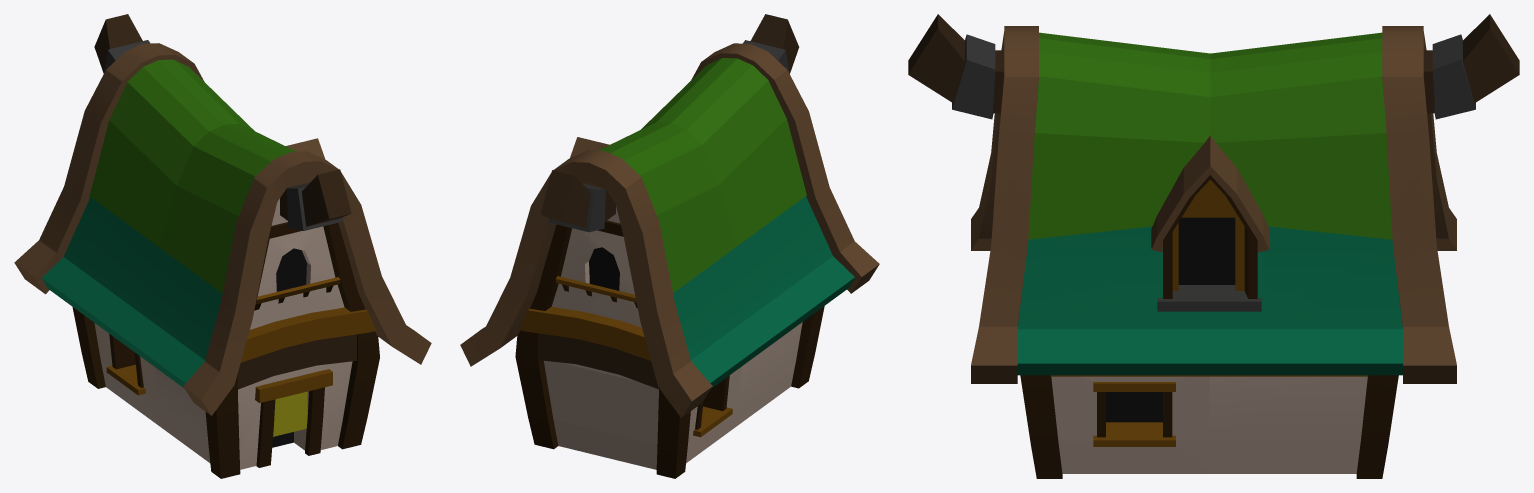
File: House.fbx
3 views of the same model, side by side, from view 1: azimuth 30°, elevation 25°; view 2: azimuth 150°, elevation 25°; view 3: azimuth 270°, elevation 25° (orthographic). The views are drawn at different scales.
Parts seen in each view (by area): view 1: Roof, RoofLeaf, House, MidBeams, RoofBeam, DoorFrame, WindowFrame, Curtain; view 2: Roof, House, RoofLeaf, MidBeams, RoofBeam, WindowFrame; view 3: Roof, RoofLeaf, House, RoofWindow, RoofBeam, WindowFrame, RoofDeco.
Part boxes in pixels (box(x1,y1,x2,y2)): Roof: box(14, 43, 431, 415); RoofLeaf: box(89, 59, 296, 293); House: box(72, 198, 379, 478); MidBeams: box(238, 307, 376, 389); RoofBeam: box(94, 14, 351, 230); DoorFrame: box(255, 369, 332, 467); WindowFrame: box(106, 334, 145, 395); Curtain: box(273, 391, 307, 436); Roof: box(460, 43, 879, 417); House: box(515, 206, 824, 478); RoofLeaf: box(598, 58, 806, 292); MidBeams: box(519, 306, 658, 389); RoofBeam: box(540, 14, 799, 232); WindowFrame: box(693, 375, 732, 437); Roof: box(971, 26, 1456, 383); RoofLeaf: box(1028, 32, 1392, 239); House: box(1020, 375, 1398, 478); RoofWindow: box(1151, 135, 1269, 311); RoofBeam: box(908, 14, 1519, 119); WindowFrame: box(1093, 382, 1175, 446); RoofDeco: box(1050, 375, 1368, 376).
Bounding box in the file's own units: 6.82 × 8.98 × 12.03.
